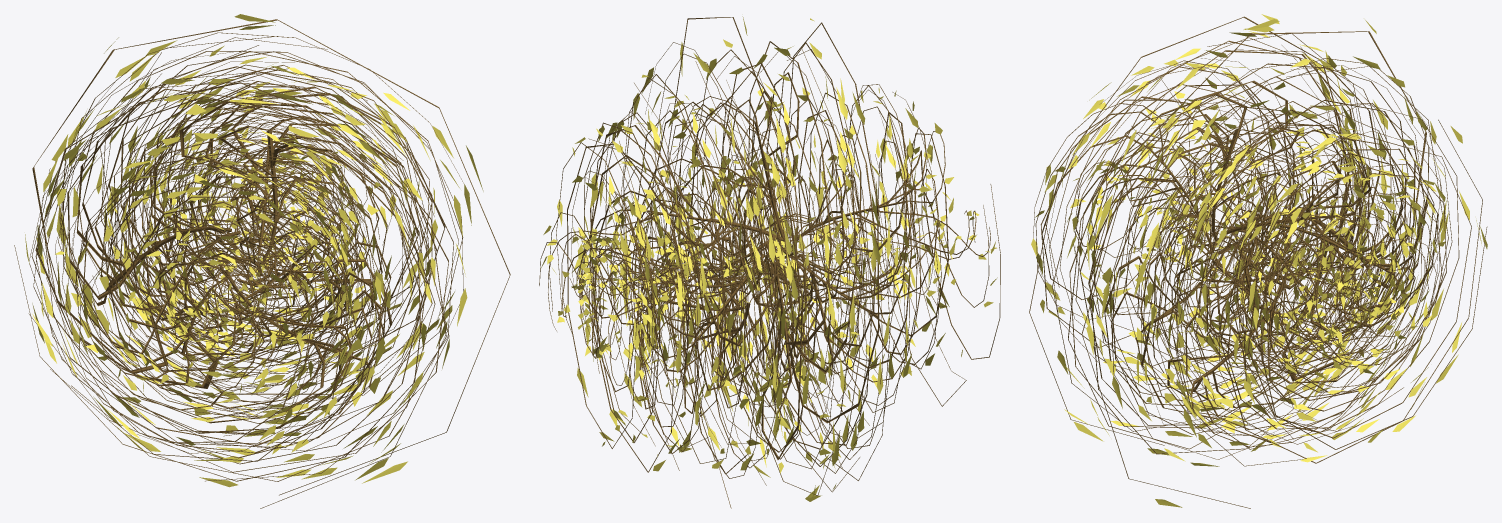
Rendered from Tumbleweed.FBX.
3 renders of one model, left to right at view 1: azimuth 30°, elevation 25°; view 2: azimuth 150°, elevation 25°; view 3: azimuth 270°, elevation 25°, orthographic. The views are drawn at different scales.
Visible parts, largest first — view 1: Foliage001; view 2: Foliage001; view 3: Foliage001.
Boxes of the visible parts, x1,y1,x2,y2 form: Foliage001: (14,14,510,508); Foliage001: (539,16,1000,508); Foliage001: (1029,14,1487,508).
Size of the model in its own units: 7.86 by 9.28 by 8.09.
